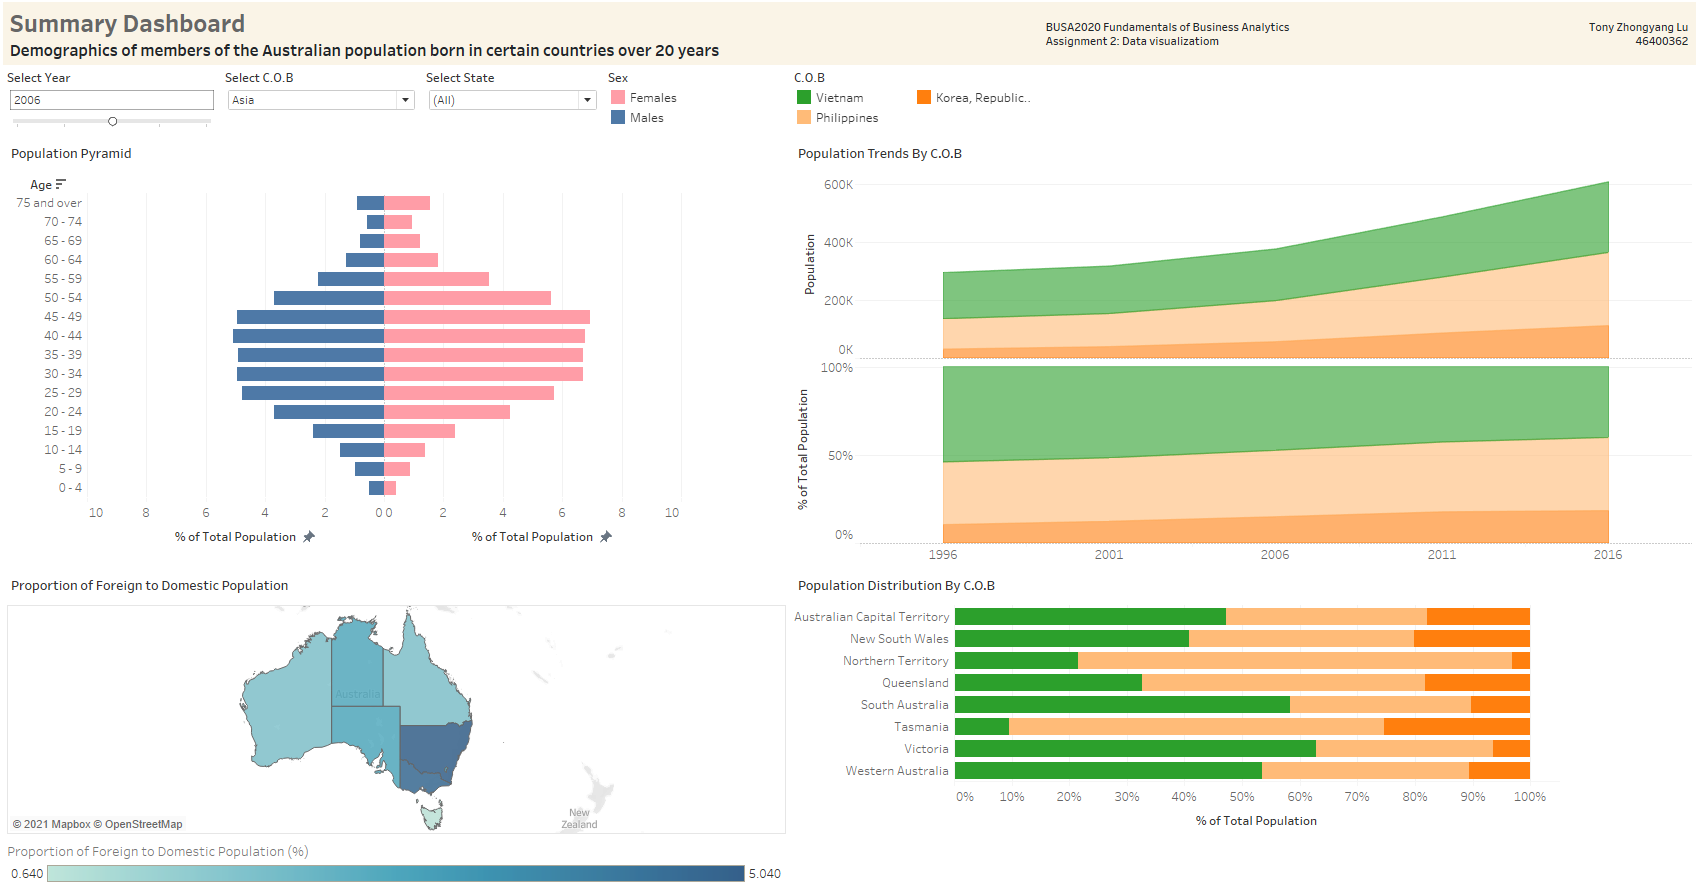

This screenshot's page, from the dashboard's own definition file:
{"tool":"tableau","page":{"name":"Summary Dashboard","canvas":[1000,1000],"units":"permille","ordinal":0},"visuals":[{"type":"text","box":[4.7,8.9,605.1,69.3]},{"type":"text","box":[609.8,8.9,206.8,69.3]},{"type":"text","box":[816.6,8.9,178.7,69.3]},{"type":"filter","title":"Population Pyramid","param":"[federated.0g760ym0agkt651gik2yw1clnbvk].[yr:Time:ok]","box":[4.7,78.2,127.5,79.3]},{"type":"filter","title":"Population Distribution By C.O.B","param":"[federated.0g760ym0agkt651gik2yw1clnbvk].[COB (group)]","box":[132.2,78.2,117.6,79.3]},{"type":"filter","title":"Population Pyramid","param":"[federated.0g760ym0agkt651gik2yw1clnbvk].[none:Region:nk]","box":[249.8,78.2,106.5,79.3]},{"type":"legend","title":"Population Pyramid","param":"[federated.0g760ym0agkt651gik2yw1clnbvk].[none:Sex:nk]","box":[356.3,78.2,108.8,79.3]},{"type":"legend","title":"Population Distribution By C.O.B","param":"[federated.0g760ym0agkt651gik2yw1clnbvk].[none:COB:nk]","box":[465.2,78.2,530.2,79.3]},{"type":"worksheet","title":"Population Pyramid","mark":"Bar","rows":["Age"],"cols":["Calculation_1113233555407069191","Calculation_1113233555407151112"],"box":[4.7,157.5,460.5,478.2]},{"type":"worksheet","title":"Population Trends By C.O.B","mark":"Area","rows":["Population"],"cols":["Time"],"box":[465.2,157.5,530.2,478.2]},{"type":"worksheet","title":"Proportion of Foreign to Domestic Population","mark":"Multipolygon","box":[4.7,635.6,460.6,299]},{"type":"worksheet","title":"Population Distribution By C.O.B","mark":"Automatic","rows":["Region"],"box":[465.2,635.6,530.1,355.5]},{"type":"legend","title":"Proportion of Foreign to Domestic Population","param":"[federated.0g760ym0agkt651gik2yw1clnbvk].[usr:Calculation_965177717724762116:qk]","box":[4.7,934.6,460.6,56.5]}]}

Visuals, with their boxes on the dashboard's canvas, which has no fixed pixel size, in thousandths of its width and height (x1, y1, x2, y2). These are canvas units, not pixel positions in the 1701x890 screenshot, which may show the page scaled, cropped or inside an application window:
text: x1=5 y1=9 x2=610 y2=78
text: x1=610 y1=9 x2=817 y2=78
text: x1=817 y1=9 x2=995 y2=78
"Population Pyramid" filter: x1=5 y1=78 x2=132 y2=158
"Population Distribution By C.O.B" filter: x1=132 y1=78 x2=250 y2=158
"Population Pyramid" filter: x1=250 y1=78 x2=356 y2=158
"Population Pyramid" legend: x1=356 y1=78 x2=465 y2=158
"Population Distribution By C.O.B" legend: x1=465 y1=78 x2=995 y2=158
"Population Pyramid" worksheet (Bar marks): x1=5 y1=158 x2=465 y2=636
"Population Trends By C.O.B" worksheet (Area marks): x1=465 y1=158 x2=995 y2=636
"Proportion of Foreign to Domestic Population" worksheet (Multipolygon marks): x1=5 y1=636 x2=465 y2=935
"Population Distribution By C.O.B" worksheet: x1=465 y1=636 x2=995 y2=991
"Proportion of Foreign to Domestic Population" legend: x1=5 y1=935 x2=465 y2=991
